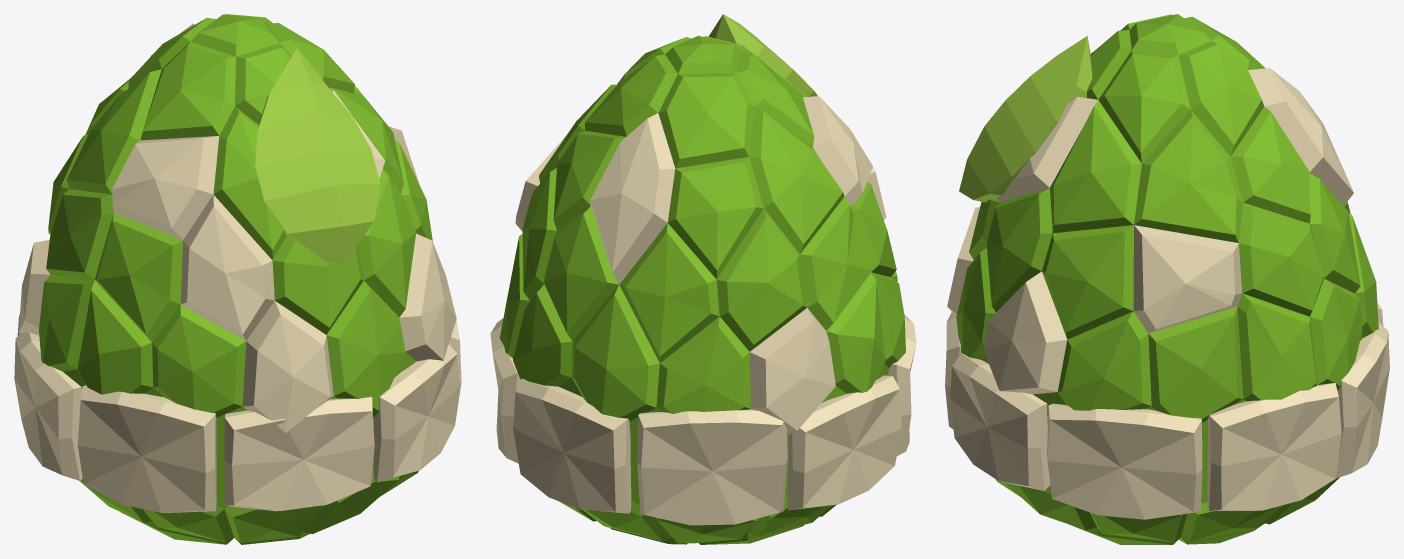
Rendered from meadow_egg.glb.
The picture shows the model from 3 angles, left to right: view 1: azimuth 30°, elevation 25°; view 2: azimuth 150°, elevation 25°; view 3: azimuth 270°, elevation 25°; orthographic projection. The views are drawn at different scales.
Parts seen in each view (by area): view 1: egg; view 2: egg; view 3: egg.
Part boxes in pixels (x1,y1,x2,y2): egg: [14, 14, 461, 544]; egg: [490, 14, 916, 544]; egg: [945, 14, 1389, 544].
Size of the model in its own units: 1.69 by 2.05 by 1.69.
